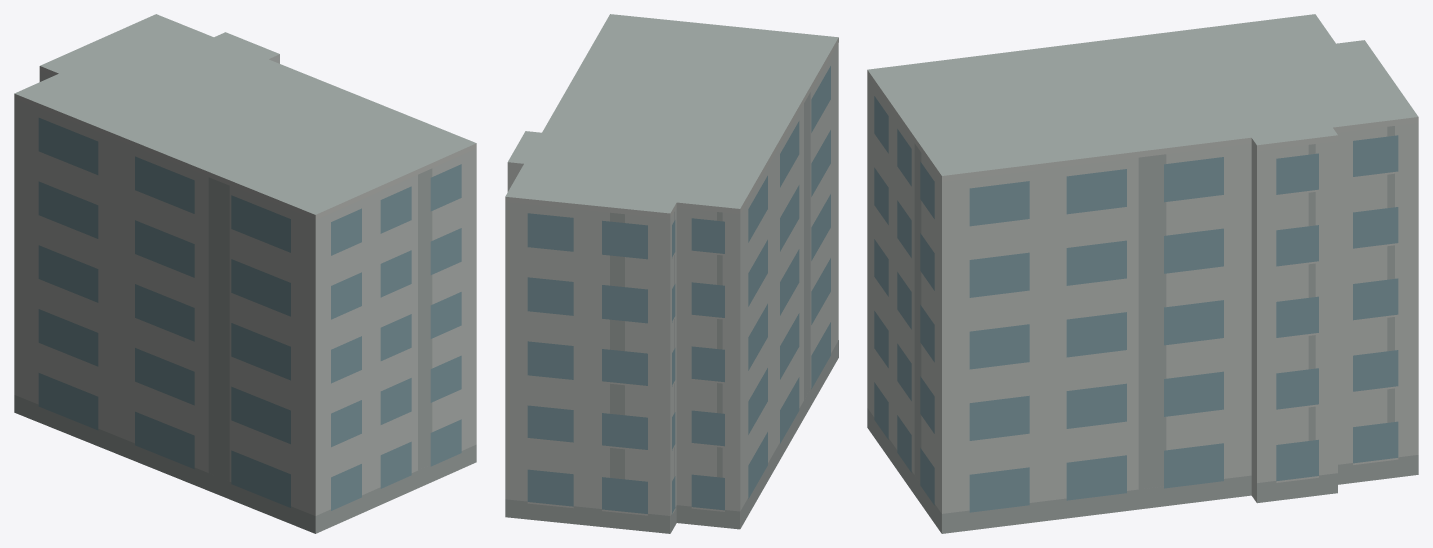
The model's file is survey-upis-32789259.glb.
The picture shows the model from 3 angles, left to right: view 1: azimuth 30°, elevation 25°; view 2: azimuth 150°, elevation 25°; view 3: azimuth 270°, elevation 25°; orthographic projection. The views are drawn at different scales.
Visible parts, largest first — view 1: survey-upis-32789259.tmp; view 2: survey-upis-32789259.tmp; view 3: survey-upis-32789259.tmp.
Boxes of the visible parts, <box> form: survey-upis-32789259.tmp: <box>14,14,476,533</box>; survey-upis-32789259.tmp: <box>505,14,838,533</box>; survey-upis-32789259.tmp: <box>867,14,1418,533</box>.
Size of the model in its own units: 14.19 by 14.6 by 20.39.
